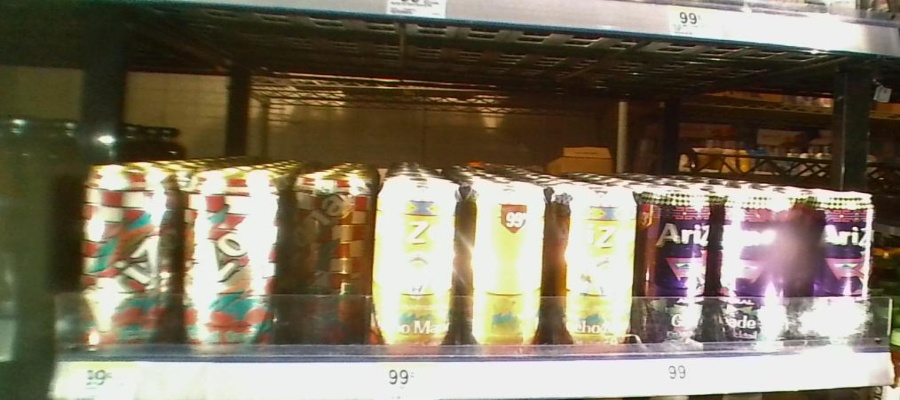bottle: (183, 168, 280, 359), (79, 161, 178, 347), (464, 171, 553, 355), (288, 171, 375, 355), (376, 174, 463, 353), (555, 177, 640, 354), (713, 183, 791, 349), (643, 180, 712, 357), (807, 186, 877, 341)
